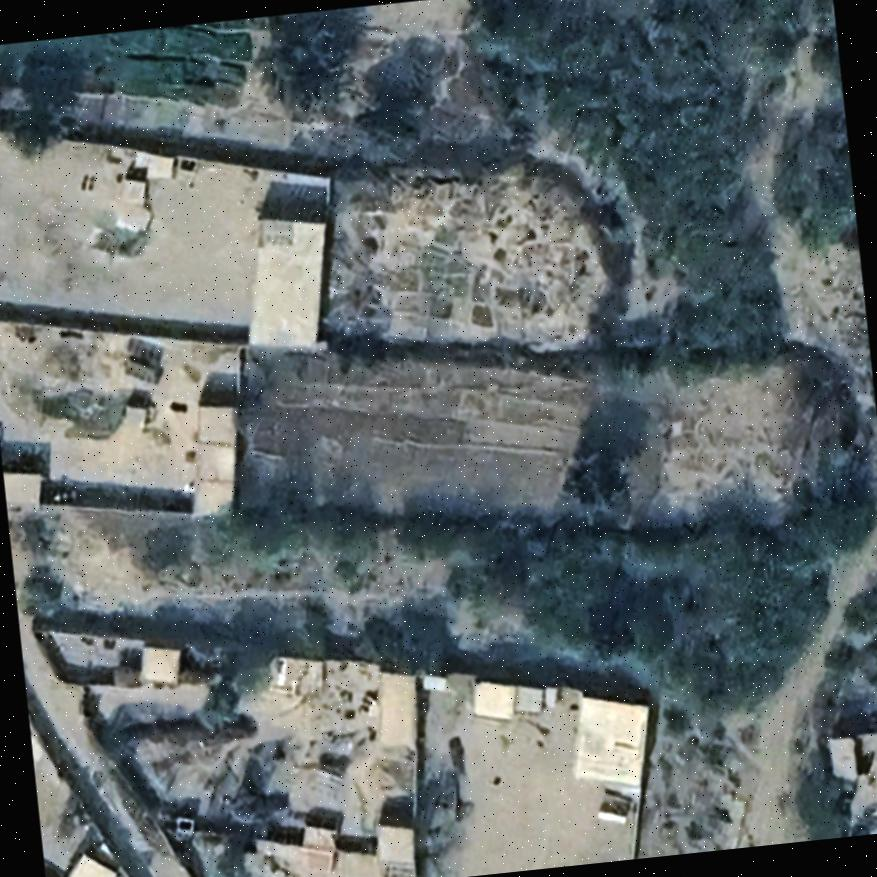Solarpanel: (115, 349, 170, 393)
